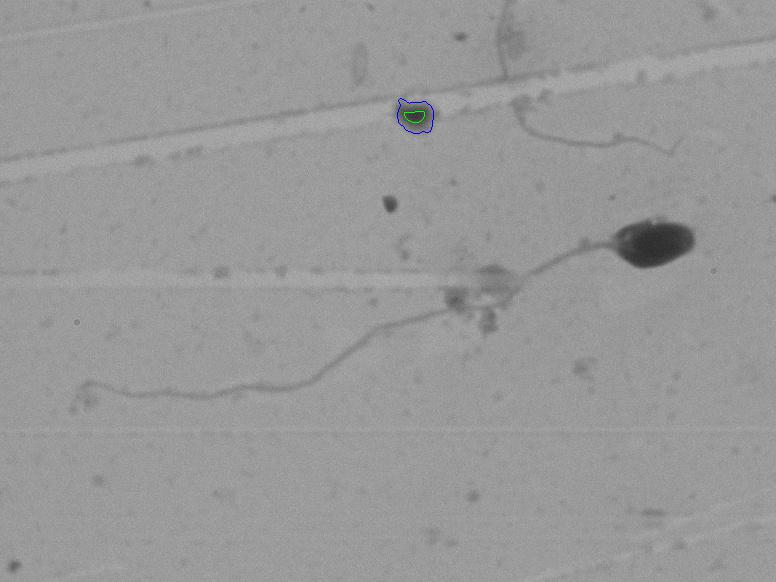Abnormal: (68, 203, 694, 463)
